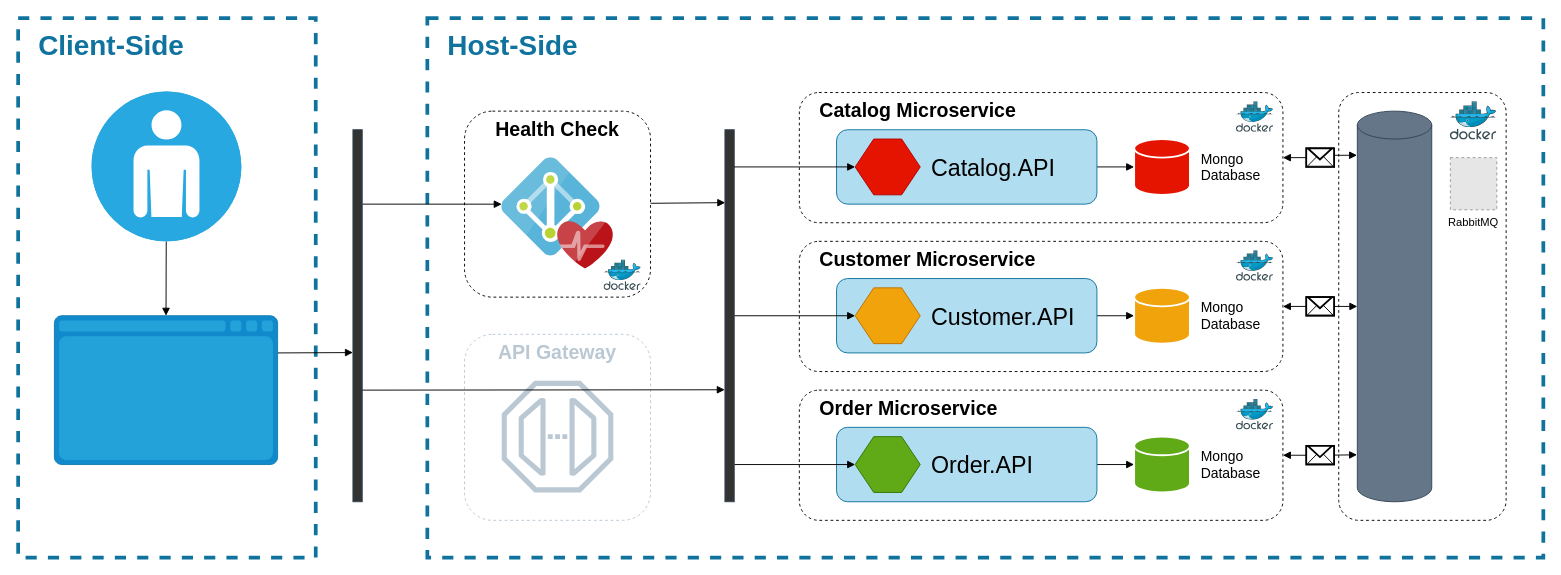
The diagram is 1561 pixels wide and 575 high, and some of its shapes have lost their labels. Grey dashed boxes stand in for pictures. Here are the shapes that lost their labels. From the top down, the centre of each, then its label:
(x=1394, y=306): Event Bus
(x=165, y=390): Web Browser [Container: Browser]
